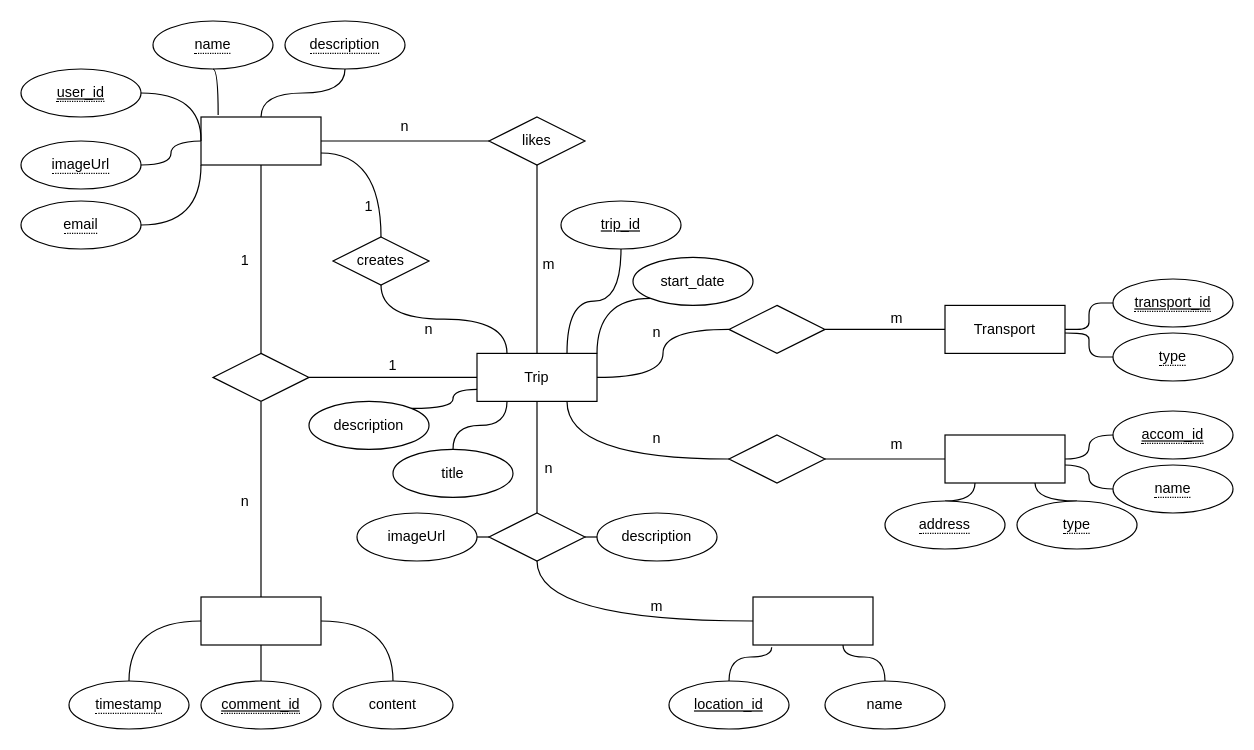
The diagram is 1254 pixels wide and 750 high, and some of its shapes have lost their labels. The box of each missing label's shape, as (x1, y1, x2, y2) in pixels:
Accommodation: (944, 434, 1065, 483)
Comment: (200, 596, 321, 645)
contains: (728, 434, 825, 483)
has: (488, 512, 585, 561)
Location: (752, 596, 873, 645)
shows: (728, 304, 825, 353)
User: (200, 116, 321, 165)
writes: (212, 352, 309, 401)
